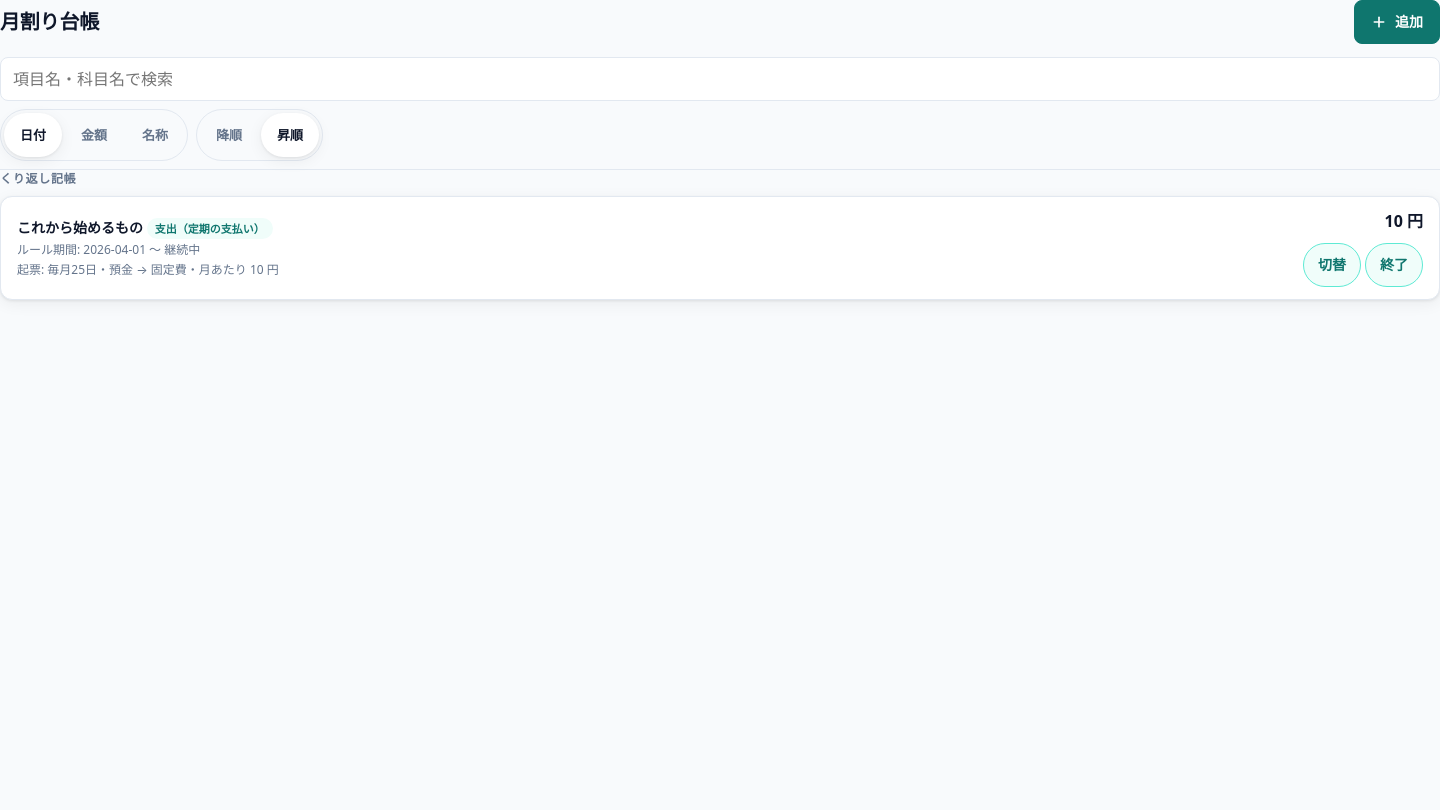
定期ルールの削除（カスケード） › 起票が 1 回も導出されないルールは「まだ起票はありません」だけを示す
Click the button with aria-label "編集: これから始めるもの" at [80, 227], box [1,197,1439,299]
(page scrolled)
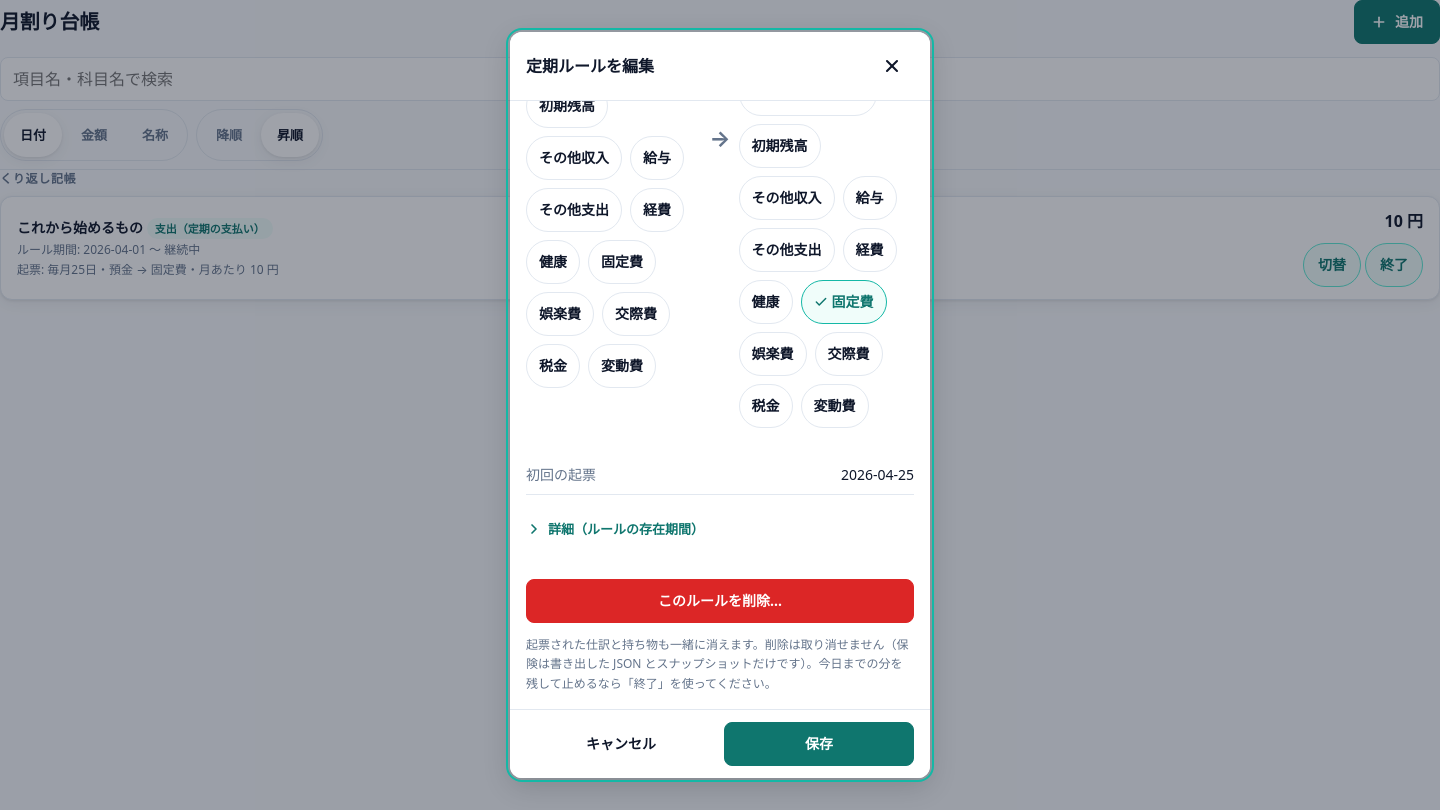
Click the button "このルールを削除…" at [720, 601], box [526,579,914,623]
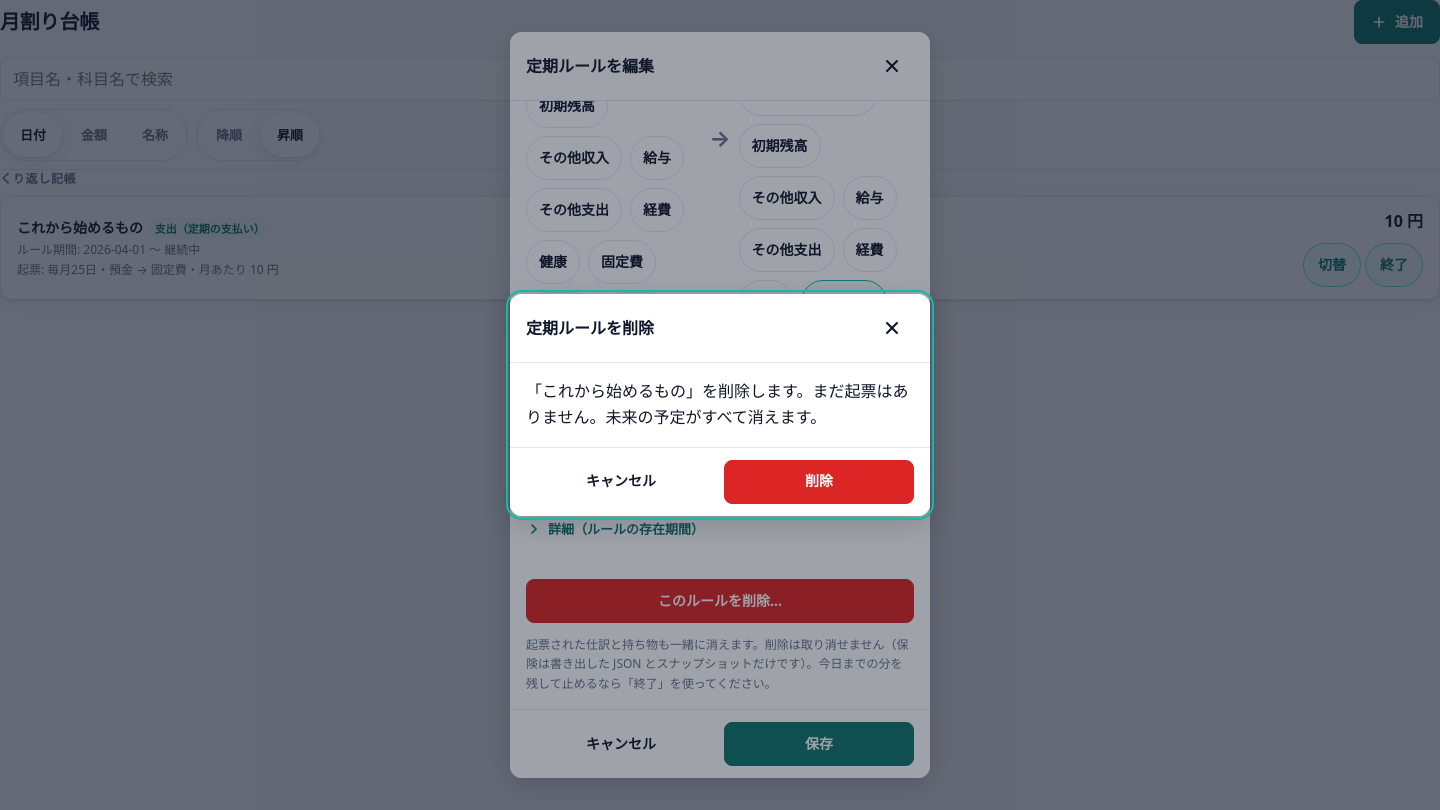
expect the dialog "定期ルールを削除" does not show "回分の仕訳と持ち物": met, box [510,294,930,516]
expect the dialog "定期ルールを削除" shows "まだ起票はありません": met, box [526,380,908,428]
